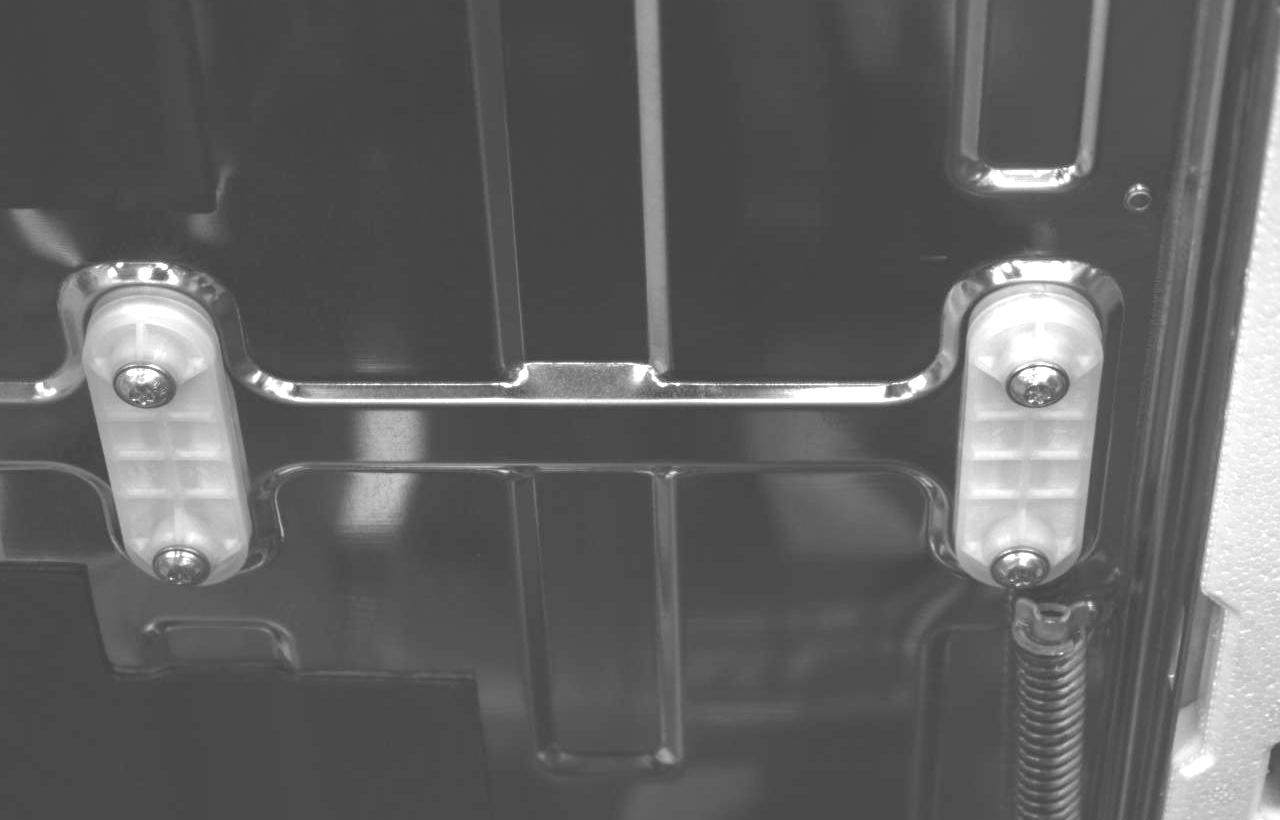vida-ok: (109, 349, 180, 417), (1004, 357, 1071, 424), (147, 531, 213, 589), (987, 534, 1053, 592)
